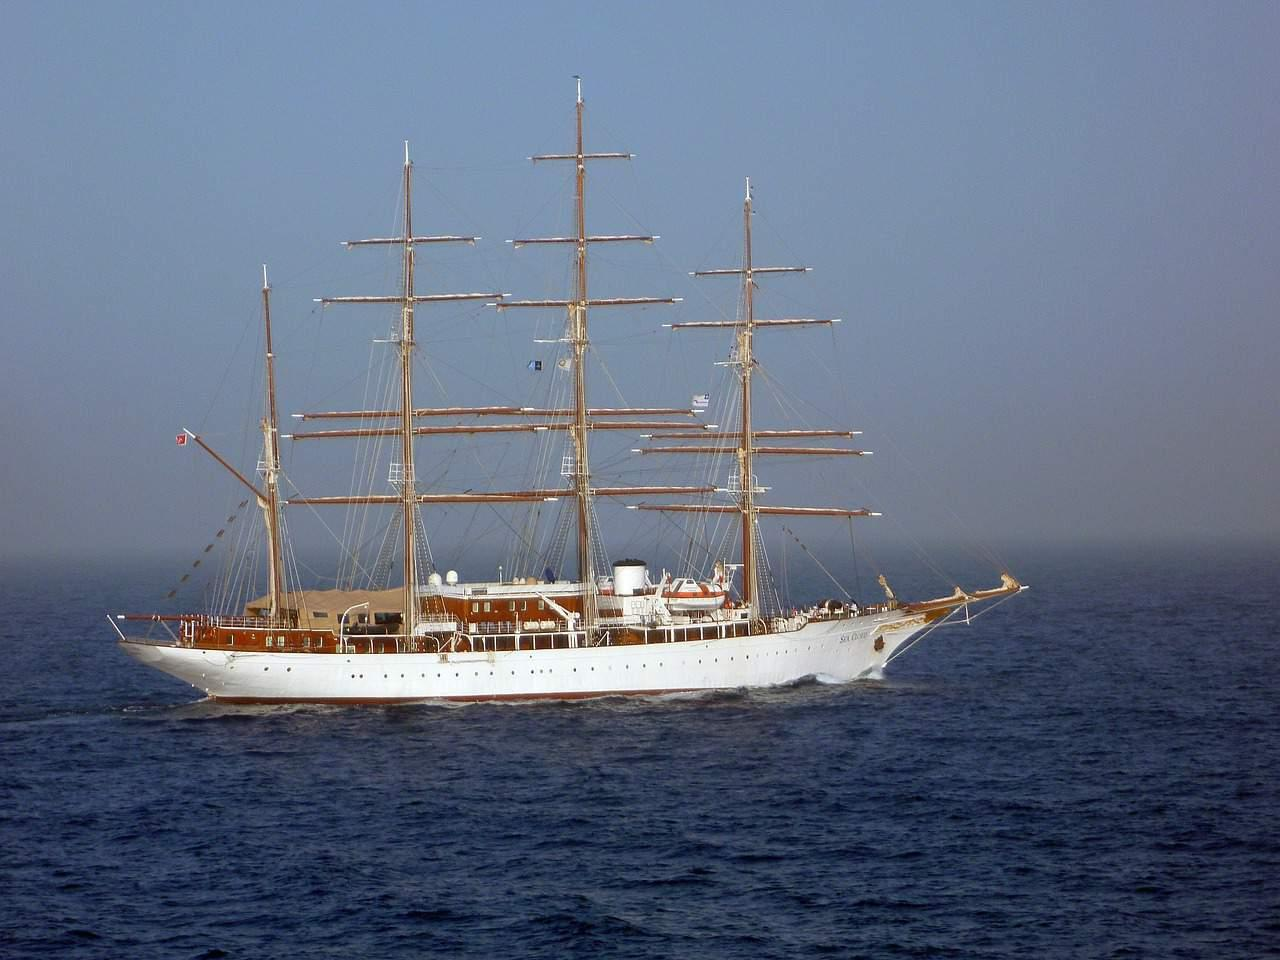Ship: (103, 73, 1028, 707)
